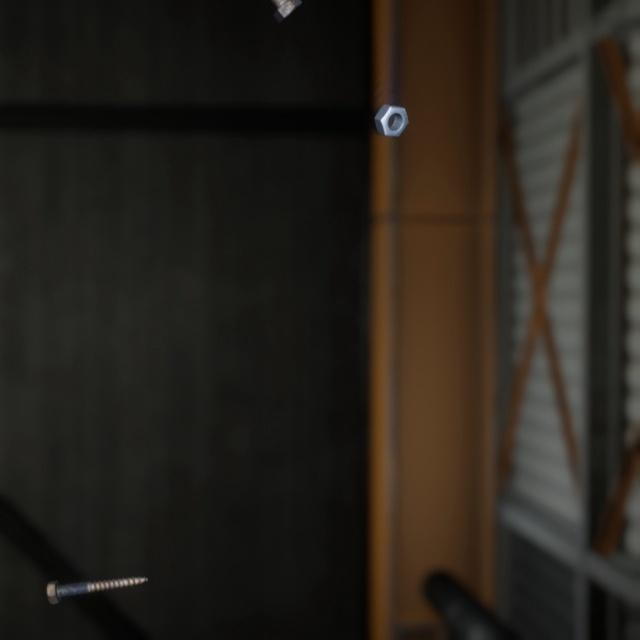bolt: (42, 548, 152, 586)
nut: (369, 88, 412, 130)
